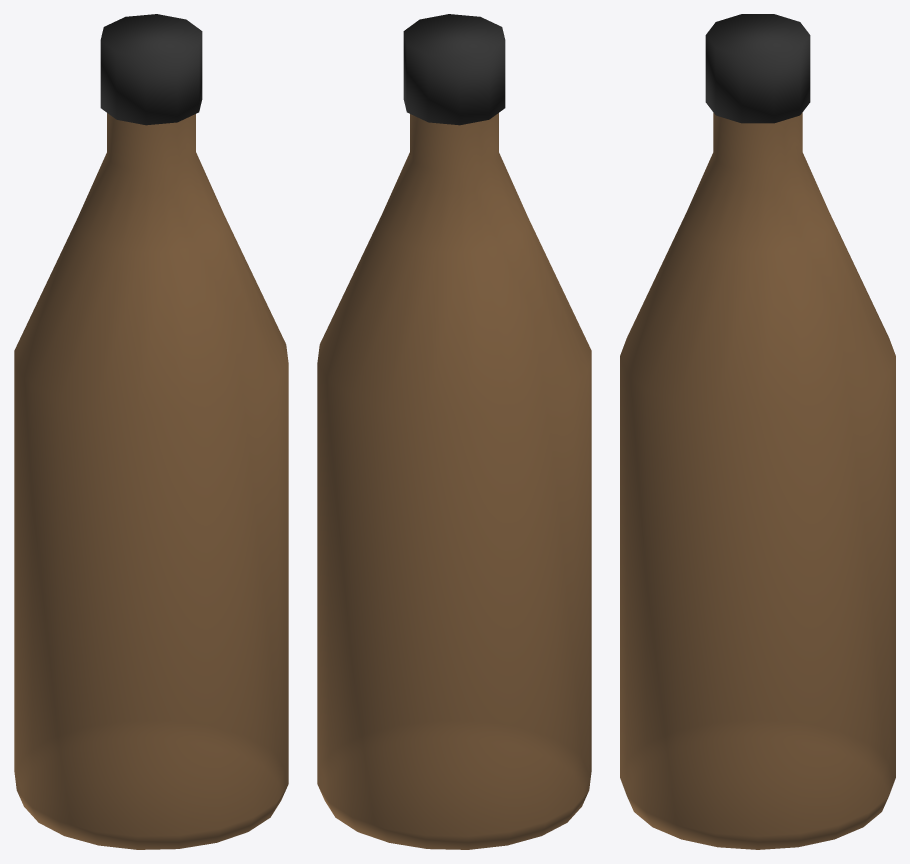
File: SoyBottle.gltf
3 views of the same model, side by side, from view 1: azimuth 30°, elevation 25°; view 2: azimuth 150°, elevation 25°; view 3: azimuth 270°, elevation 25° (orthographic).
Visible parts, largest first — view 1: A_SoyBottle; view 2: A_SoyBottle; view 3: A_SoyBottle.
Boxes of the visible parts, bbox=[...] form: A_SoyBottle: bbox=[14, 14, 288, 849]; A_SoyBottle: bbox=[317, 14, 591, 849]; A_SoyBottle: bbox=[620, 14, 895, 849].
Size of the model in its own units: 0.074 by 0.225 by 0.074.
